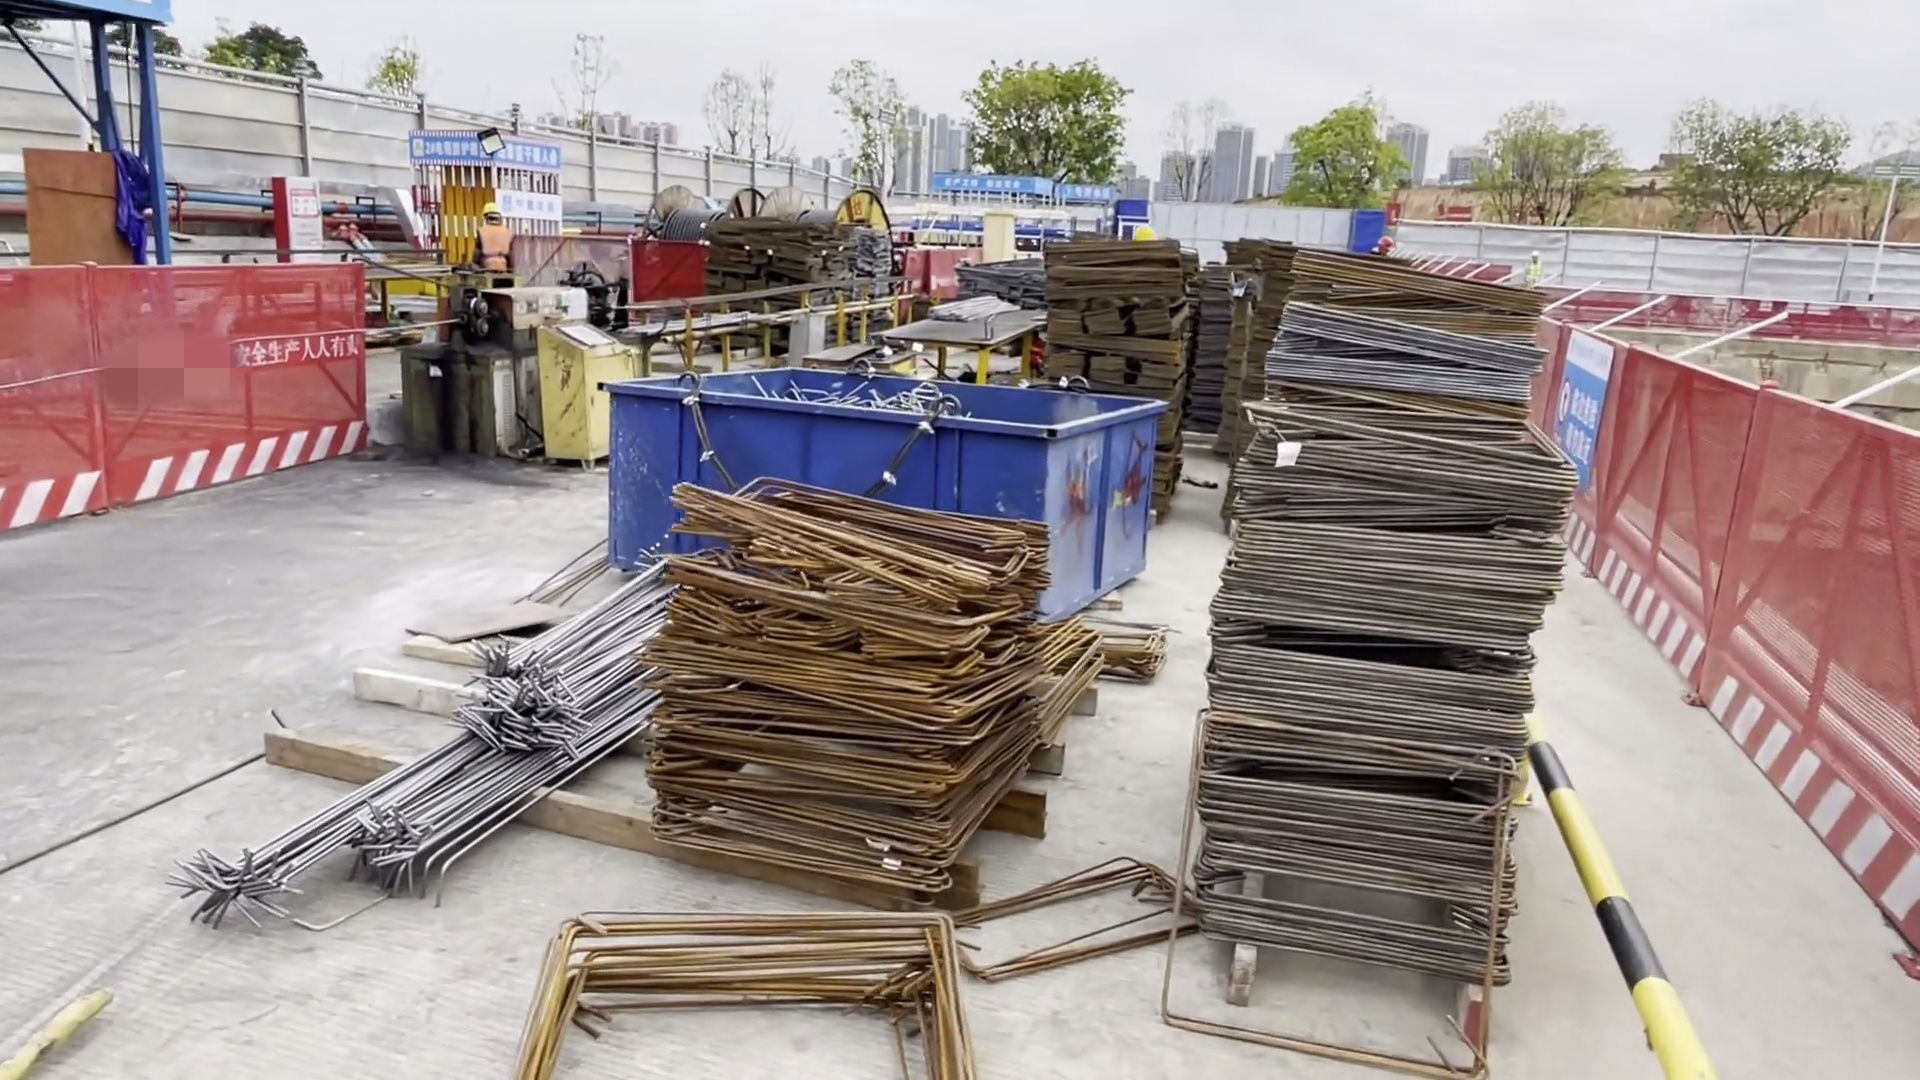ebox: (978, 213, 1016, 271)
fence: (1712, 372, 1917, 951), (2, 261, 380, 519), (1536, 321, 1711, 697), (1547, 286, 1920, 340)
helmet: (479, 203, 502, 215), (1377, 235, 1389, 249)
hopper: (607, 364, 1159, 612)
person: (469, 197, 515, 281), (1524, 249, 1537, 284)
rebar: (201, 555, 689, 908)
slogan: (1556, 338, 1613, 482), (409, 132, 558, 172), (931, 177, 1105, 199)
vest: (481, 227, 510, 265)
